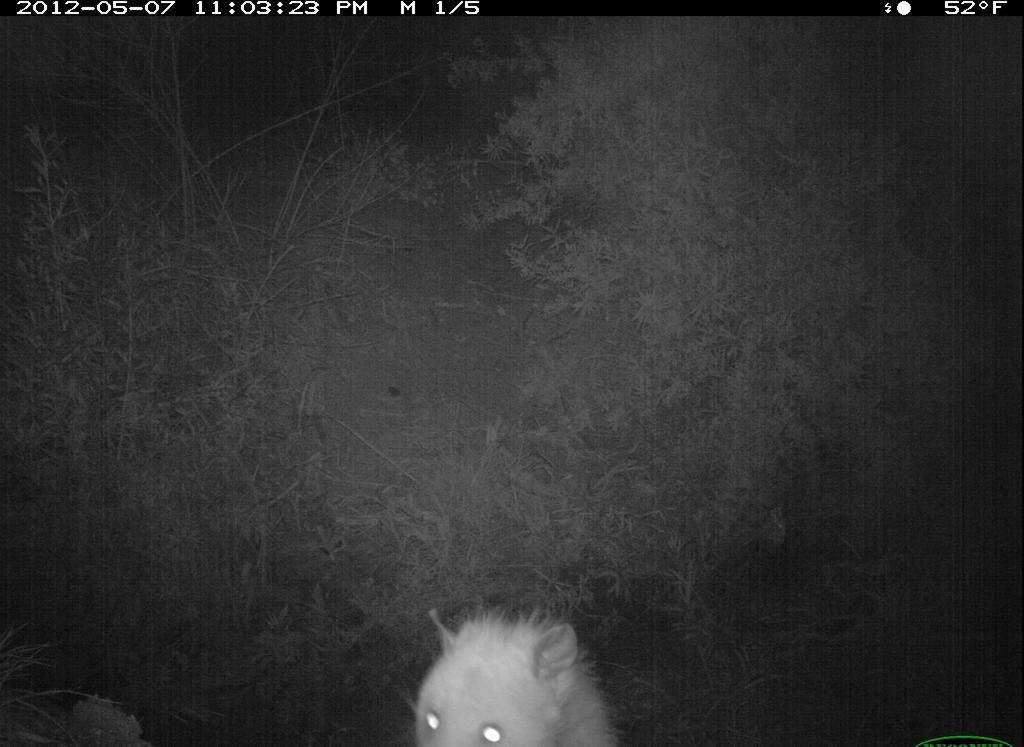opossum: (391, 586, 624, 747)
